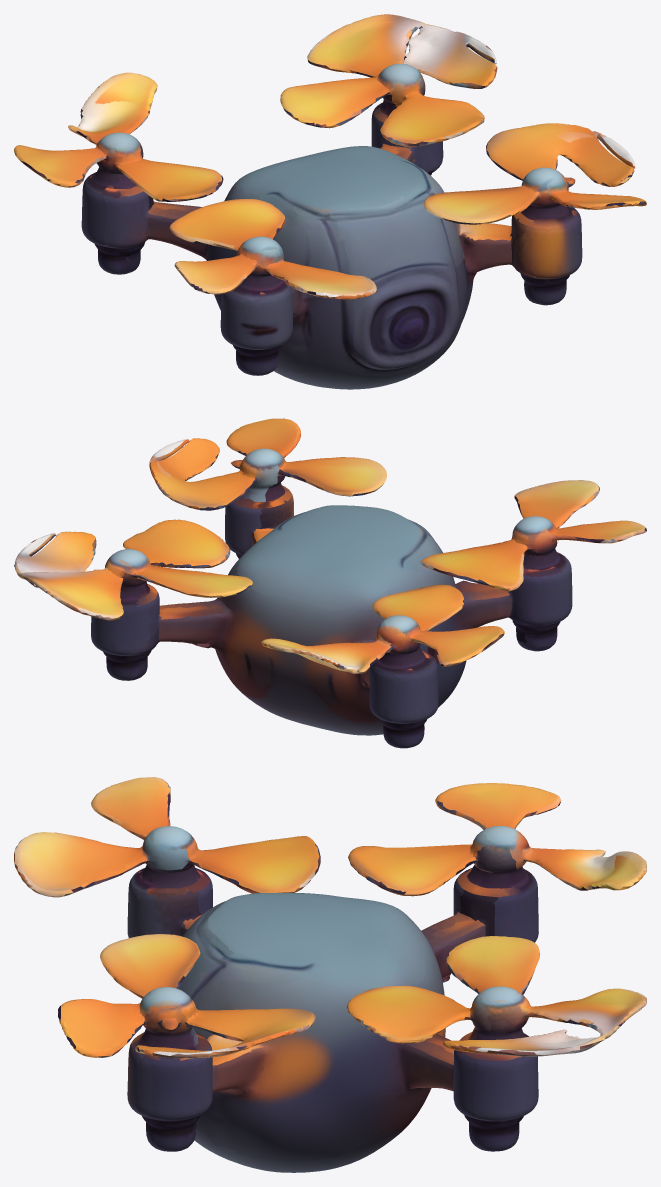
Rendered from drone.glb.
3 views of the same model, one above another, from view 1: azimuth 30°, elevation 25°; view 2: azimuth 150°, elevation 25°; view 3: azimuth 270°, elevation 25° (orthographic). The views are drawn at different scales.
Parts seen in each view (by area): view 1: tmp7i21j3yb.ply; view 2: tmp7i21j3yb.ply; view 3: tmp7i21j3yb.ply.
Boxes of the visible parts, bbox=[...] form: tmp7i21j3yb.ply: bbox=[14, 14, 646, 389]; tmp7i21j3yb.ply: bbox=[14, 418, 646, 748]; tmp7i21j3yb.ply: bbox=[14, 777, 646, 1172].
Size of the model in its own units: 1.96 by 0.8208 by 1.96.
Materials: 1 (1 with a texture image).
